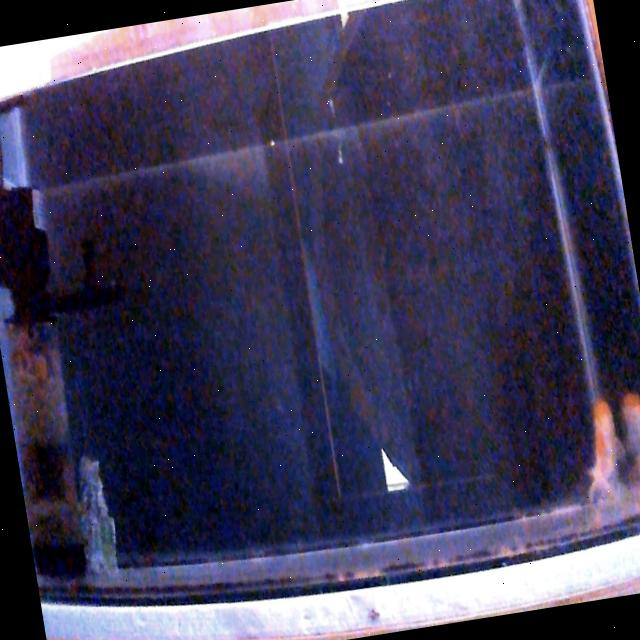fish: (575, 396, 627, 502), (616, 385, 640, 494)
